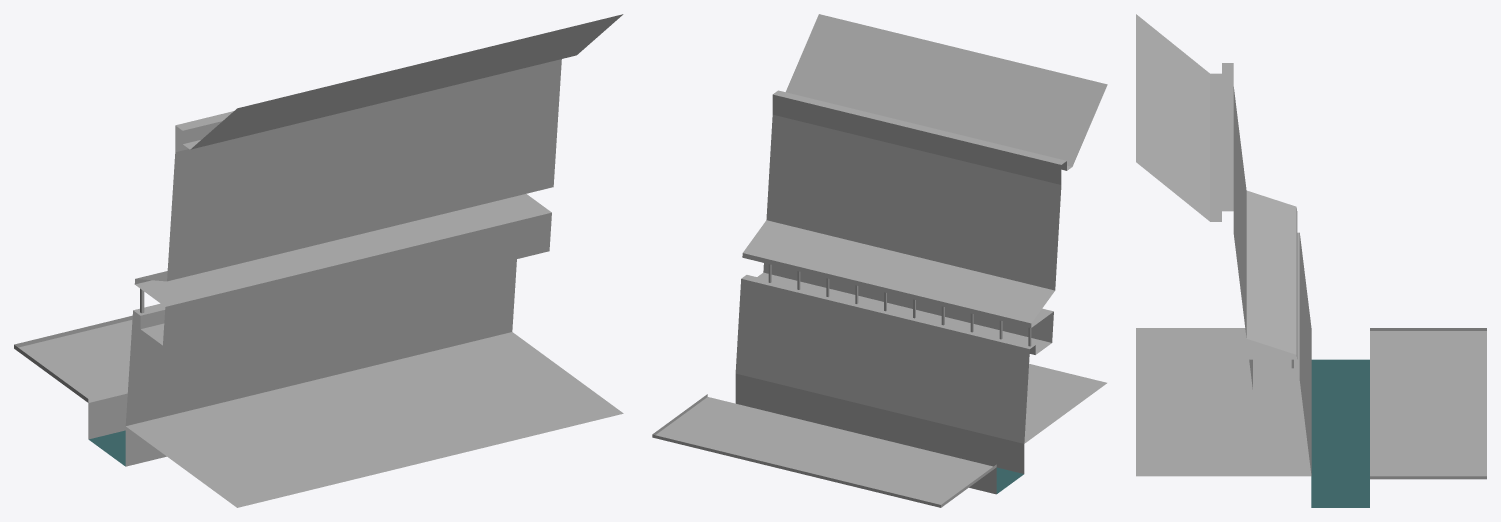
Rendered from wwcc.obj.
3 views of the same model, side by side, from view 1: azimuth 30°, elevation 25°; view 2: azimuth 150°, elevation 25°; view 3: azimuth 270°, elevation 25° (orthographic). The views are drawn at different scales.
Visible parts, largest first — view 1: wwcc; view 2: wwcc; view 3: wwcc.
Part boxes in pixels (x1,y1,x2,y2): wwcc: (14,14,623,507); wwcc: (652,14,1107,507); wwcc: (1136,14,1486,507).
Size of the model in its own units: 30 by 32.63 by 30.
